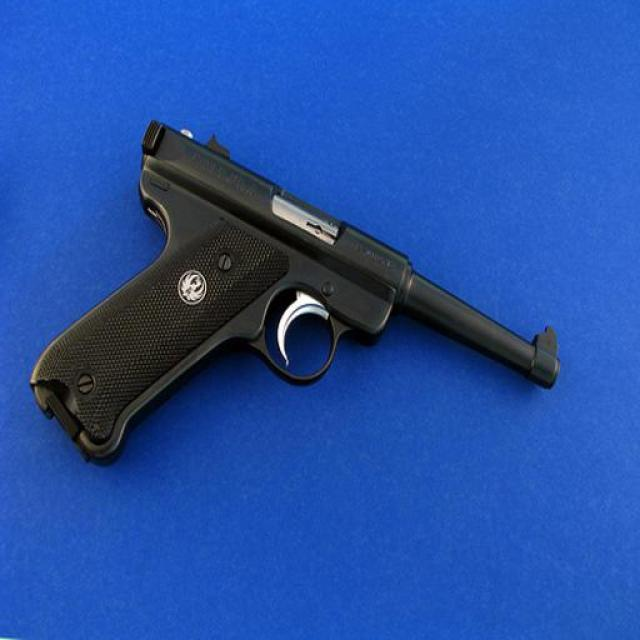pistol: (27, 114, 560, 470)
